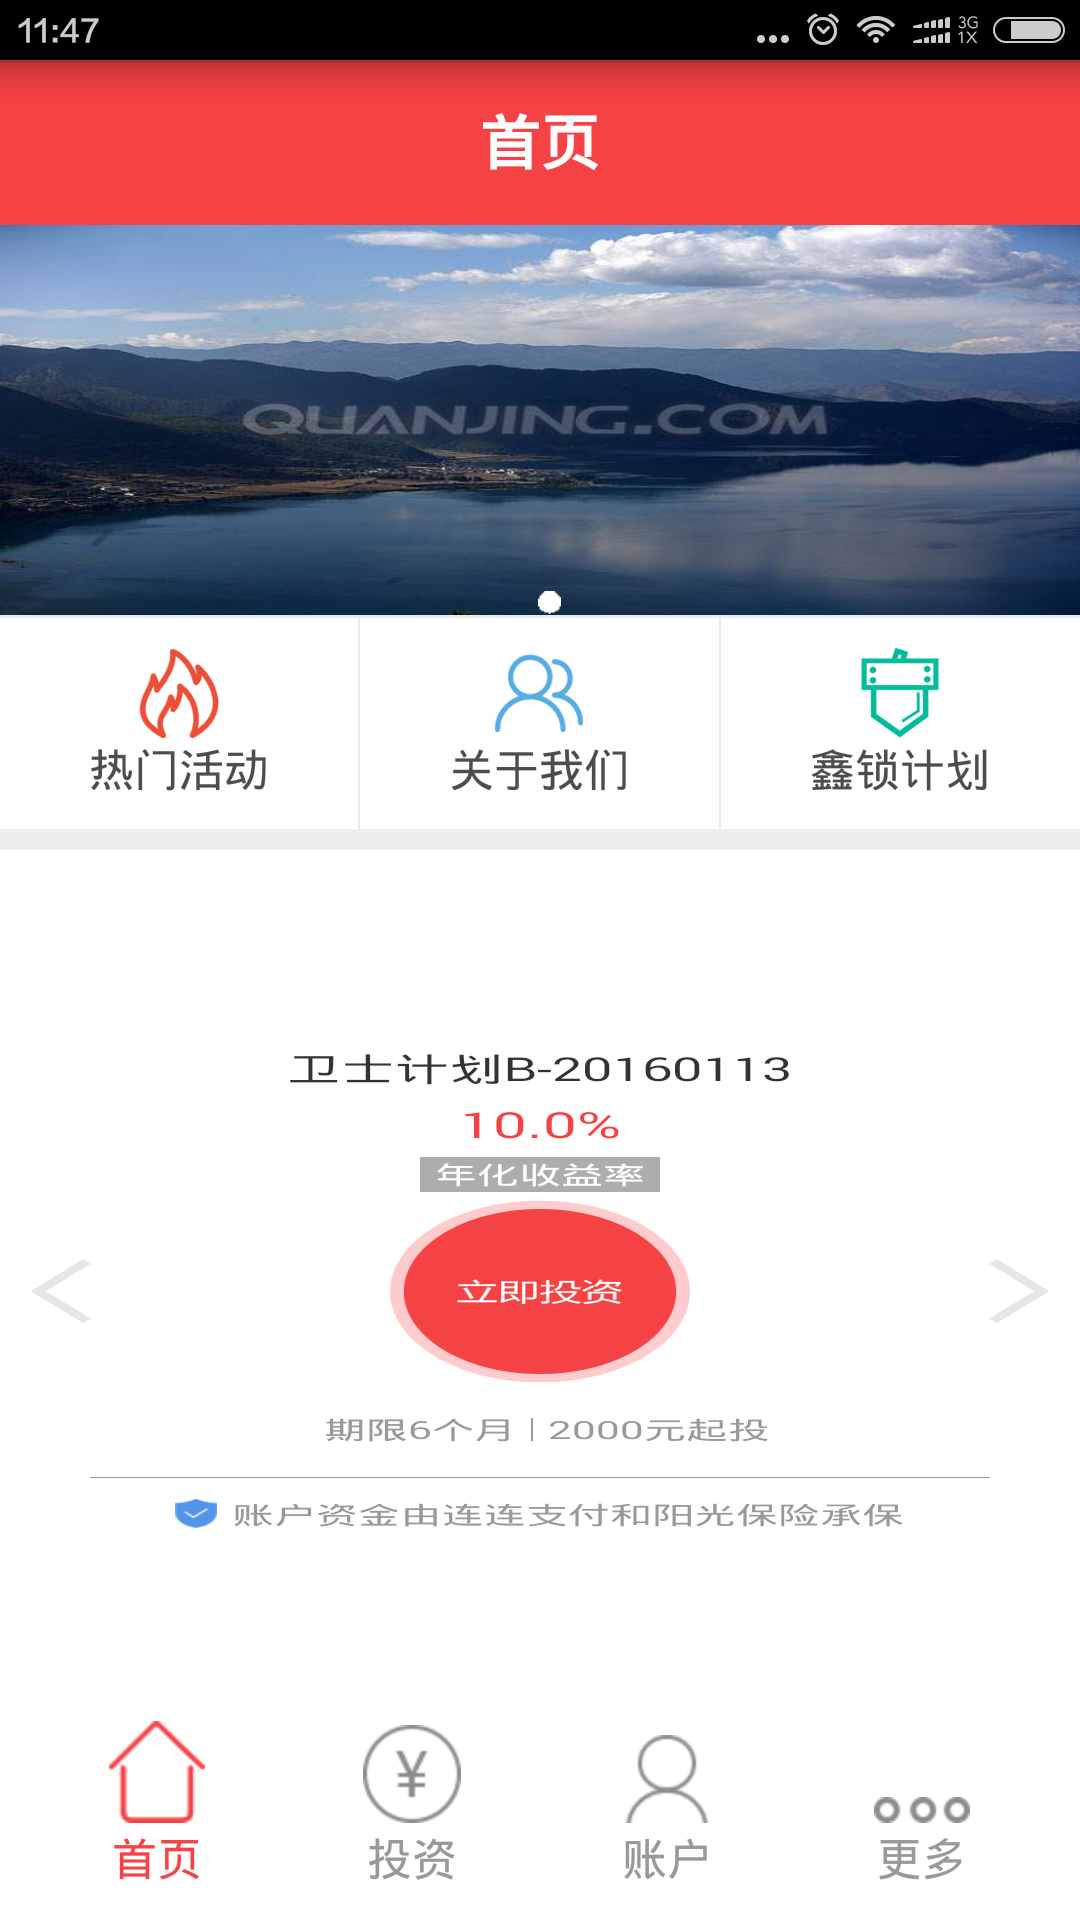nav: (8, 1688, 1080, 1902)
